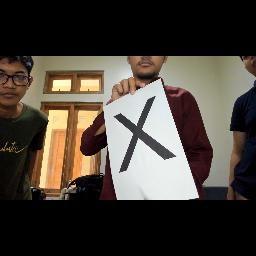x: (114, 94, 180, 176)
